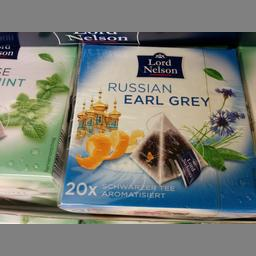tea: (56, 40, 255, 217), (0, 41, 73, 208)
